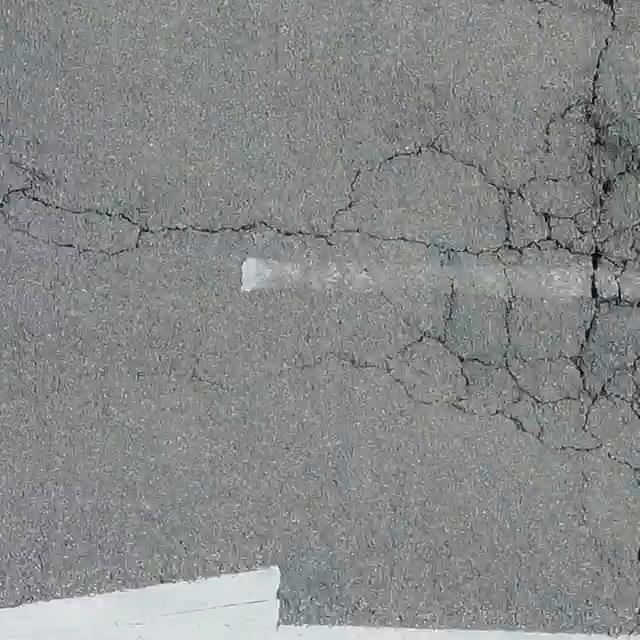GRIETA: (0, 129, 325, 239), (0, 202, 142, 256), (194, 369, 229, 390)
PIEL DE COCODRILO: (321, 0, 639, 572)
